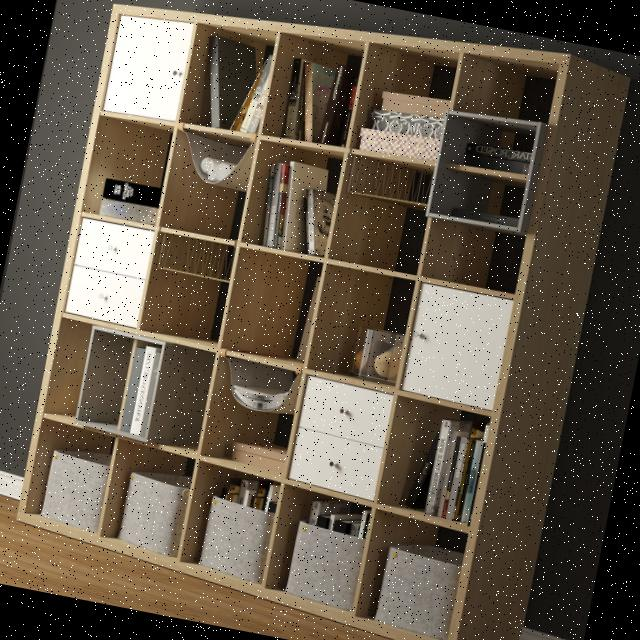Shelf: (2, 0, 640, 640)
